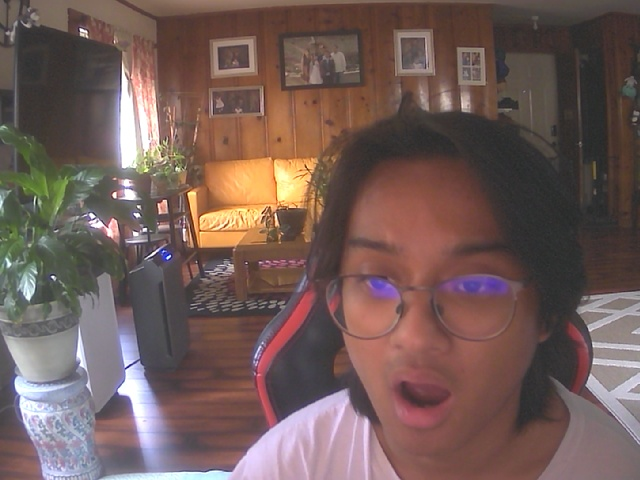fear: (315, 122, 574, 465)
